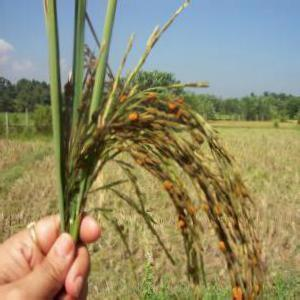Leaf_Scald: (112, 112, 148, 134), (159, 99, 191, 116), (134, 93, 164, 108), (178, 202, 192, 232), (159, 175, 180, 193), (229, 283, 248, 300), (218, 242, 231, 255)
